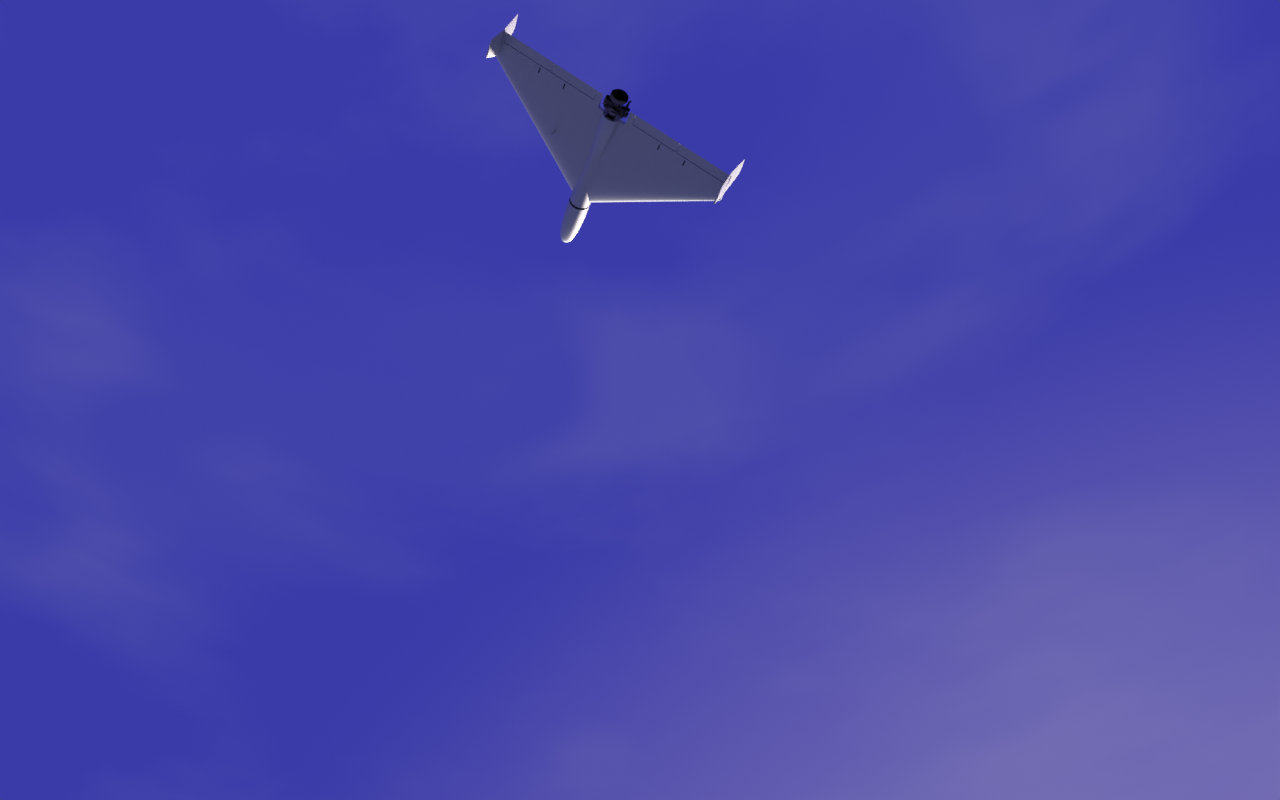shahed: (486, 14, 747, 245)
